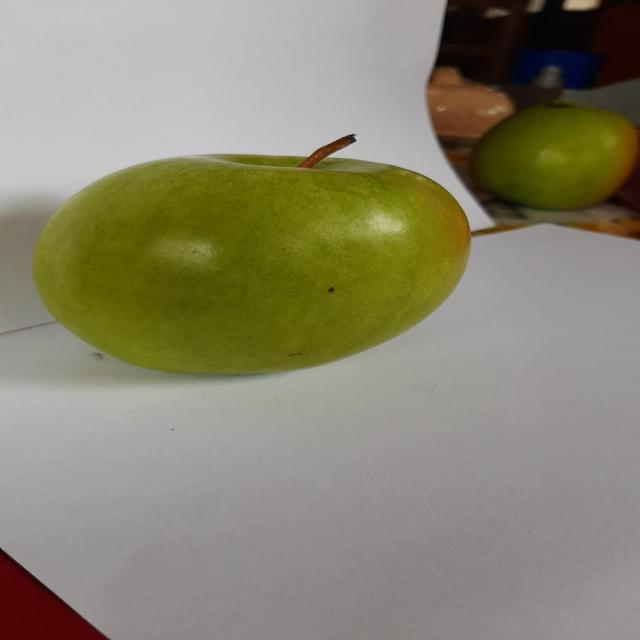50-_ripeness: (27, 129, 481, 393)
